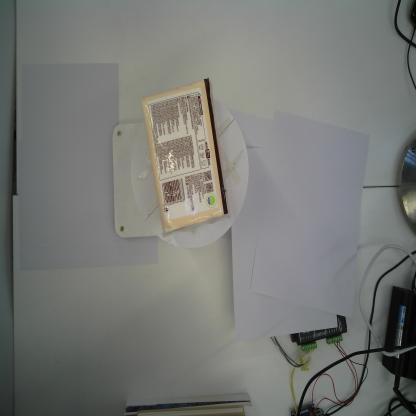Tissue: (142, 76, 230, 234)
